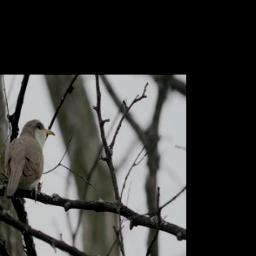Cuckoo: (3, 118, 54, 201)
